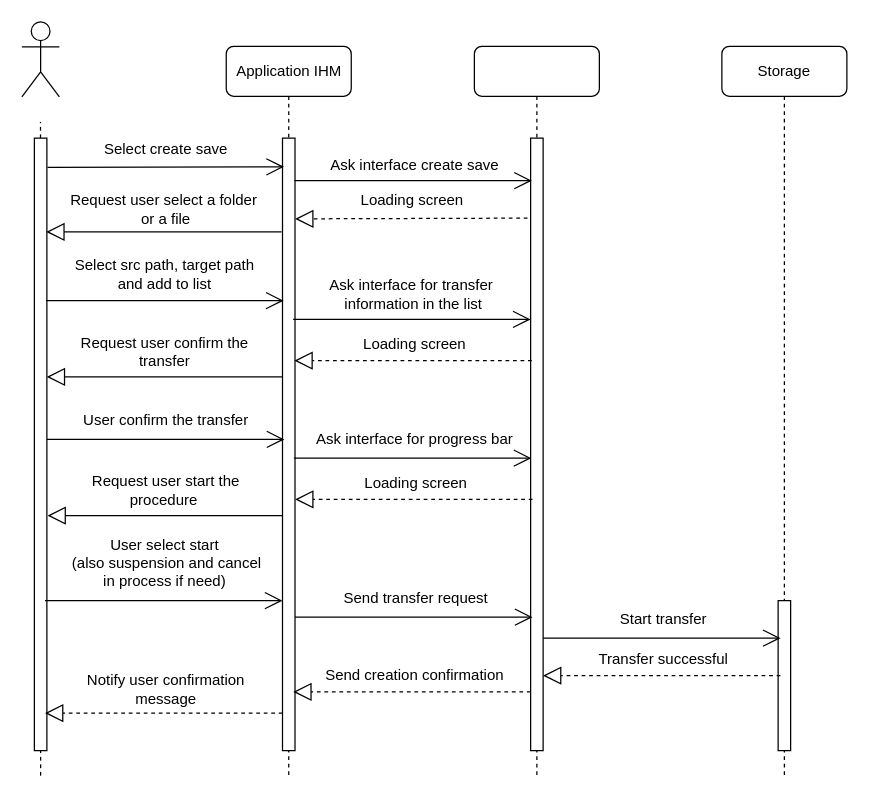
Image size: 869x799. Some labels were removed from this diagram. Here are the shapes that lost their labels. From the top down, the box of each, then its label:
(21, 21, 59, 97): user
(473, 45, 599, 776): Application
